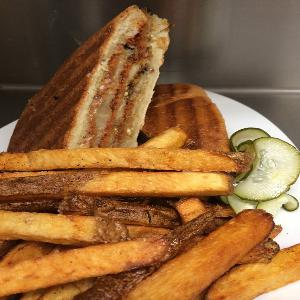fries: (6, 150, 294, 300)
